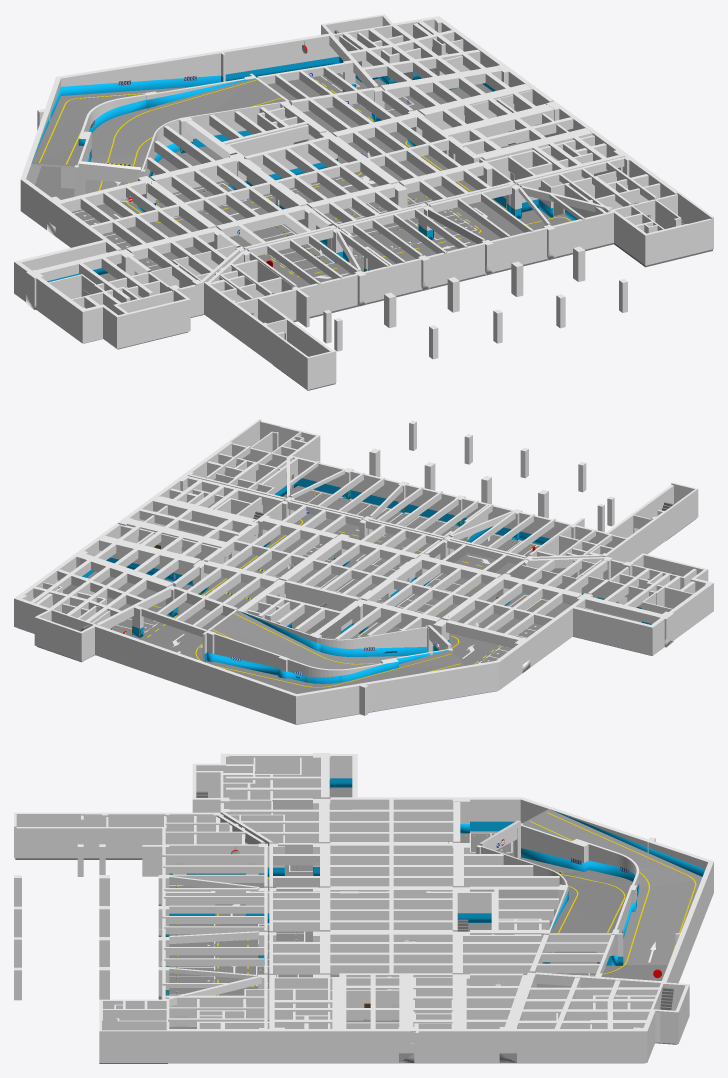
File: 负二层.glb
3 views of the same model, one above another, from view 1: azimuth 30°, elevation 25°; view 2: azimuth 150°, elevation 25°; view 3: azimuth 270°, elevation 25° (orthographic). The views are drawn at different scales.
Parts seen in each view (by area): view 1: 矩形梁, 墙, 楼板, 柱, 车行道, 踢脚线, 路面-标, 停车位; view 2: 矩形梁, 墙, 楼板, 柱, 车行道, 踢脚线, 停车位, 路面-标; view 3: 矩形梁, 墙, 车行道, 柱, 楼板, 踢脚线, 路面-标, 停车位, 楼梯.
Boxes of the visible parts, x1,y1,x2,y2 form: 矩形梁: (36,21,656,302); 墙: (14,14,713,389); 楼板: (35,72,712,390); 柱: (26,16,629,359); 车行道: (31,78,286,200); 踢脚线: (26,56,577,309); 路面-标: (39,79,570,276); 停车位: (73,72,476,272); 矩形梁: (31,446,669,648); 墙: (14,419,709,724); 楼板: (26,485,696,724); 柱: (15,420,713,715); 车行道: (205,610,465,693); 踢脚线: (82,478,673,683); 停车位: (116,490,548,663); 路面-标: (142,519,500,687); 矩形梁: (162,757,661,1028); 墙: (14,754,713,1062); 车行道: (519,809,702,964); 柱: (14,753,655,1062); 楼板: (15,787,677,1063); 踢脚线: (158,778,705,1062); 路面-标: (217,812,696,995); 停车位: (169,832,589,995); 楼梯: (196,791,673,1010).
Size of the model in its own units: 75.5 by 4.79 by 80.29.
164 materials, 1 textured.
